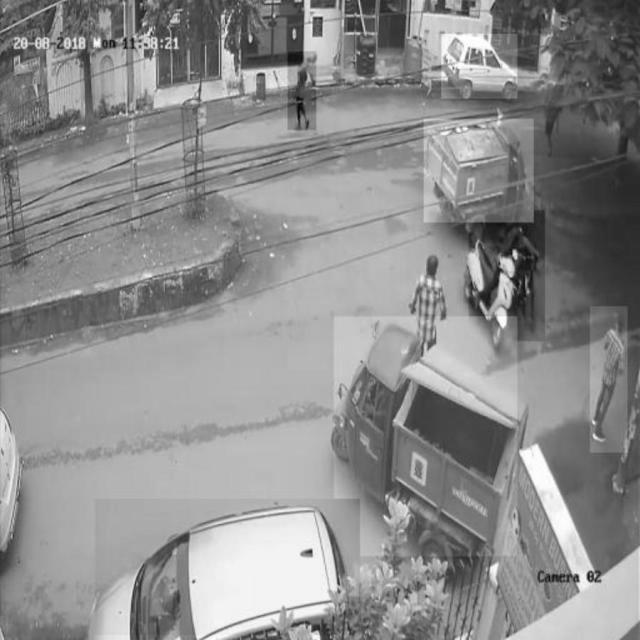accident: (469, 211, 545, 342)
person: (590, 306, 627, 452), (288, 52, 316, 130)
vehicle: (334, 316, 518, 556), (95, 499, 359, 635), (424, 119, 534, 222), (442, 34, 518, 98)
